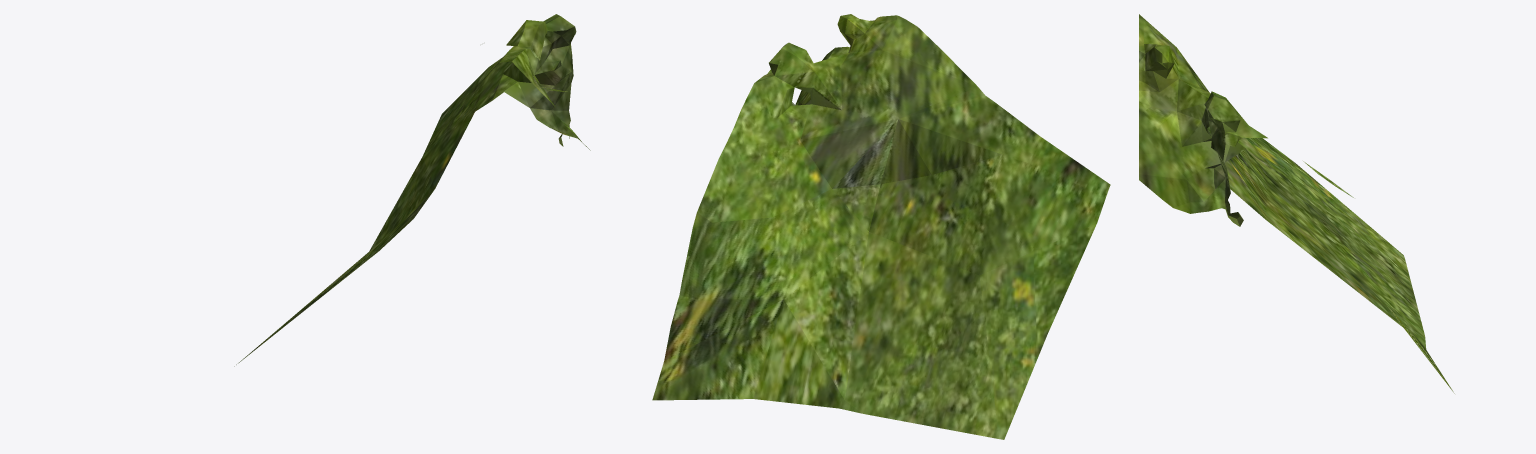
3 renders of one model, left to right at view 1: azimuth 30°, elevation 25°; view 2: azimuth 150°, elevation 25°; view 3: azimuth 270°, elevation 25°, orthographic. The views are drawn at different scales.
Bounding box in the file's own units: 2.95 × 2.73 × 2.58.
Materials: 3 (3 with a texture image).
